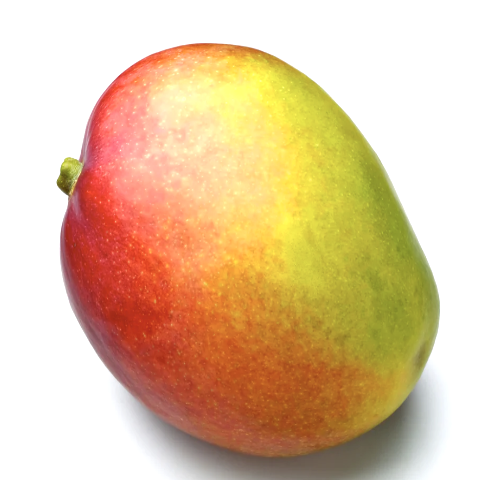mango: (23, 11, 474, 476)
